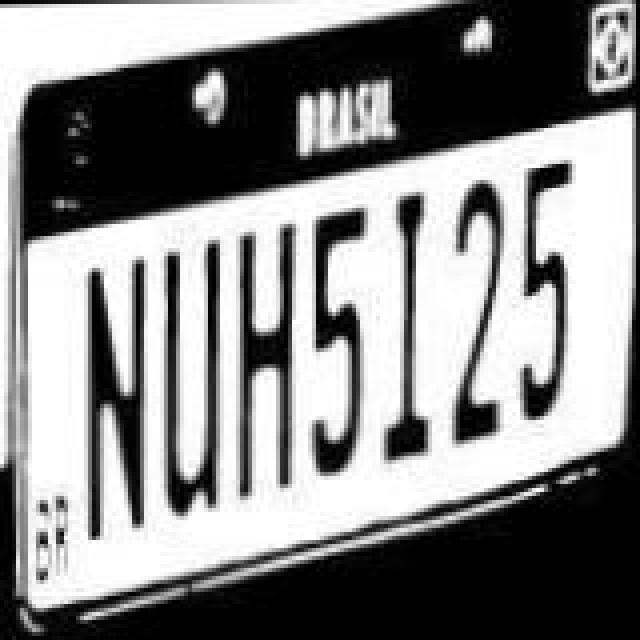2: (436, 170, 516, 454)
5: (302, 196, 378, 480), (512, 154, 584, 422)
H: (228, 214, 308, 502)
I: (372, 180, 444, 468)
N: (82, 254, 162, 562)
U: (154, 230, 234, 530)
